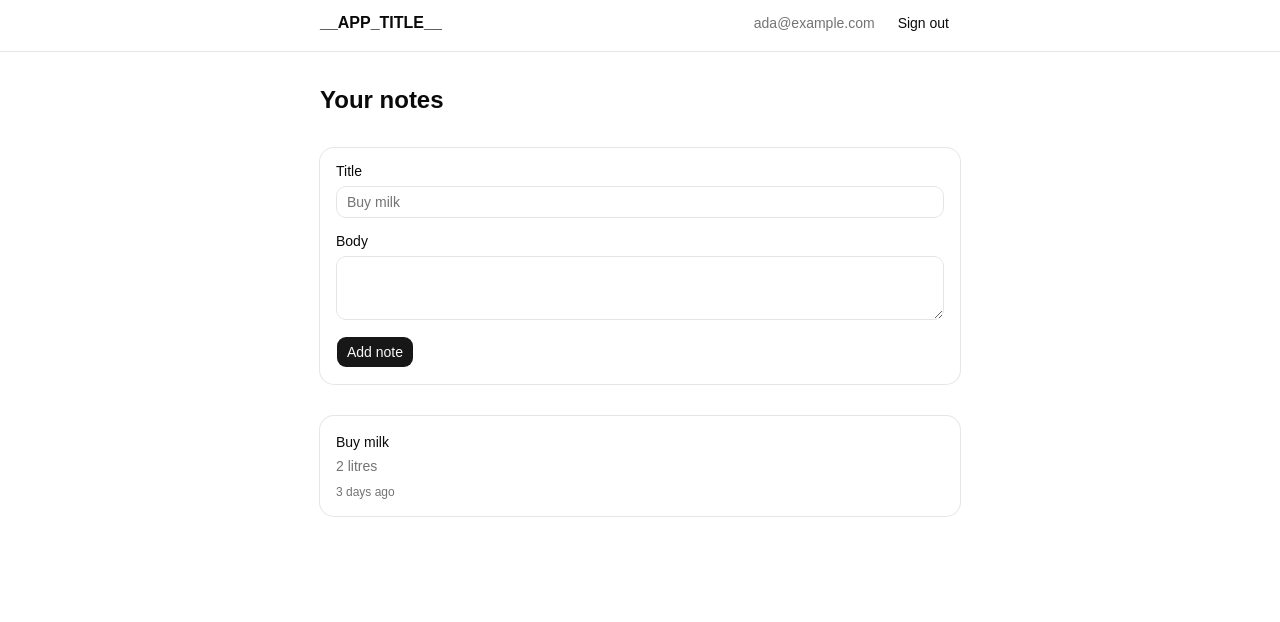
notes page (list + create against the API) › creates a note (CSRF header on the request), shows it, and clears the form
This screenshot has width=1280, height=622.
Expected: the heading "Buy milk" is shown, [336,434,389,450]
Type "Call Ada" into the field labelled "Title" at [640, 202], box [336,186,944,218]
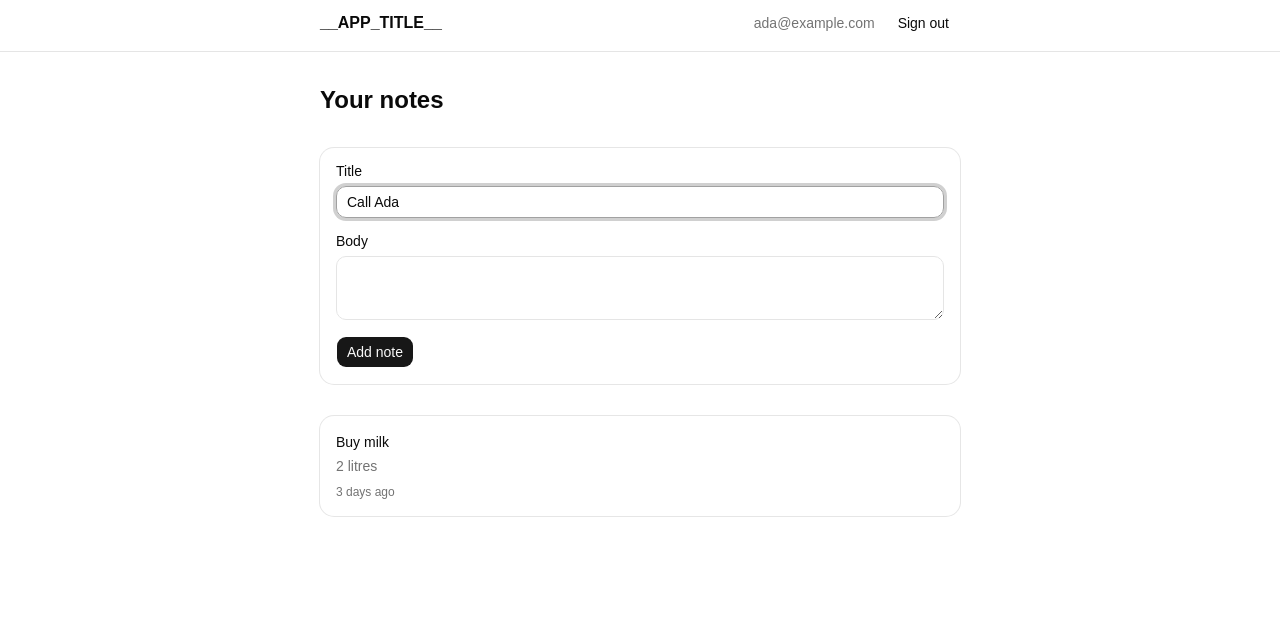
Click the button "Add note" at [375, 352], box [336,336,414,368]
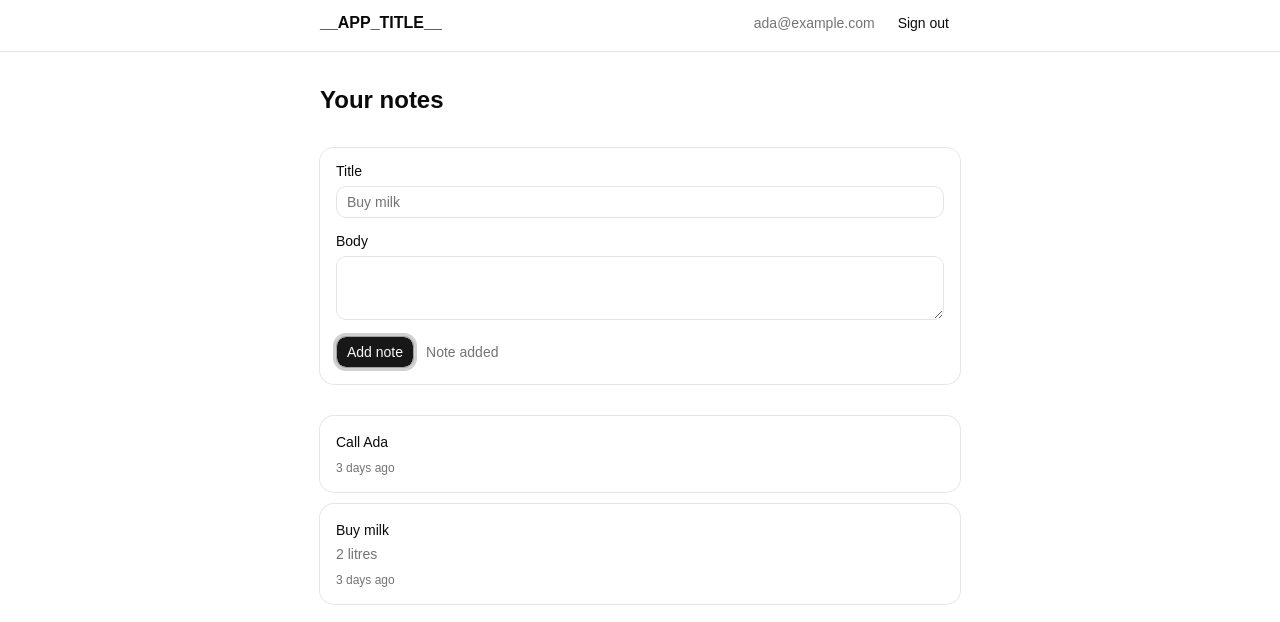
Expected: the heading "Call Ada" is shown, [336,434,388,450]
Expected: the field labelled "Title" is empty, [336,186,944,218]
Expected: the message reads "Note added", [426,344,498,360]
